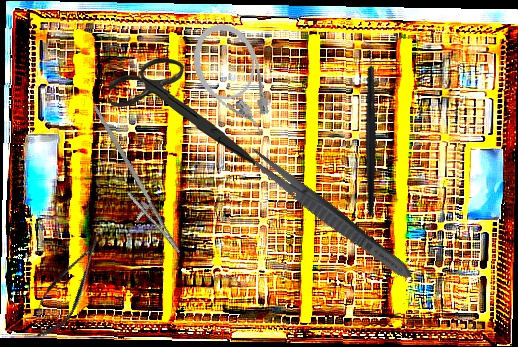Cannula: (183, 15, 282, 149)
Chopper: (303, 36, 431, 217)
Dressing Forceps: (235, 140, 417, 285)
Iris Scissors: (106, 56, 259, 166)
Micro Scissor: (23, 227, 114, 346)
Needle Holder: (66, 104, 198, 262)
